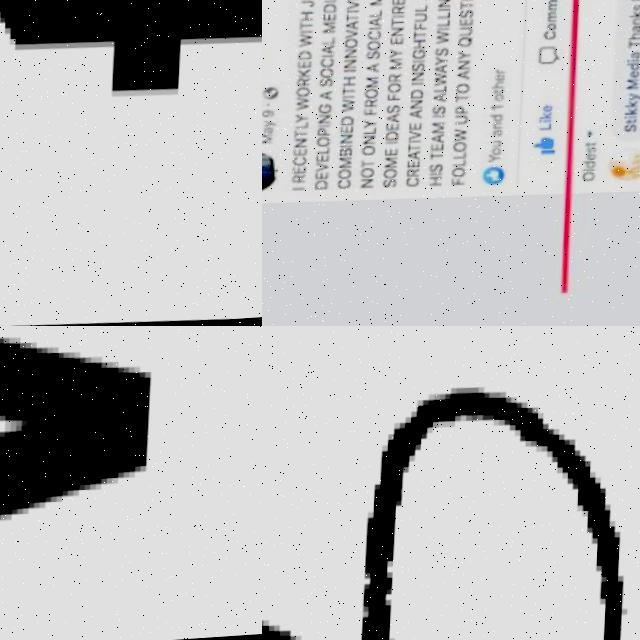5: (262, 326, 640, 640), (262, 110, 274, 117)
A: (318, 91, 331, 102), (320, 46, 334, 56), (386, 115, 399, 125), (407, 152, 420, 162), (457, 73, 470, 83), (369, 19, 381, 29), (346, 22, 359, 31), (366, 65, 379, 74), (432, 96, 445, 105), (410, 111, 421, 121), (431, 136, 442, 146), (435, 66, 446, 76), (630, 31, 640, 38), (263, 128, 273, 134), (492, 134, 502, 140), (630, 57, 639, 63)
B: (338, 148, 351, 158)
C: (291, 156, 307, 167), (320, 59, 333, 70), (336, 179, 349, 190), (406, 178, 419, 189), (368, 32, 381, 42), (543, 34, 556, 44)
D: (385, 132, 398, 143), (298, 51, 311, 61), (322, 5, 335, 15), (341, 117, 354, 127), (314, 181, 326, 191), (411, 91, 422, 101), (626, 69, 639, 76), (491, 118, 503, 125), (582, 167, 595, 173)
E: (384, 123, 401, 134), (388, 37, 405, 48), (384, 148, 400, 159), (458, 20, 471, 30), (292, 149, 308, 157), (429, 146, 445, 154), (408, 124, 422, 133), (314, 173, 328, 181), (316, 155, 328, 163), (390, 0, 406, 6), (322, 15, 335, 22), (407, 163, 420, 170), (340, 128, 354, 134), (293, 167, 306, 173), (297, 62, 310, 68), (494, 77, 505, 84), (543, 109, 553, 116), (629, 77, 639, 84), (586, 158, 596, 165), (548, 0, 557, 3)
F: (451, 179, 464, 189), (364, 110, 377, 117), (387, 96, 400, 103), (413, 26, 426, 32)
G: (316, 104, 332, 116), (412, 52, 425, 61)
H: (412, 41, 426, 52), (300, 10, 313, 21), (343, 77, 356, 87), (429, 179, 442, 189), (491, 85, 504, 92), (628, 38, 640, 45)
I: (291, 186, 304, 191), (368, 28, 381, 33), (385, 143, 398, 148), (436, 28, 449, 33), (437, 10, 450, 15), (623, 119, 636, 124), (299, 30, 311, 35), (318, 124, 330, 129), (320, 54, 332, 59), (340, 145, 352, 150), (392, 16, 404, 21), (411, 83, 423, 88), (539, 123, 551, 128), (627, 63, 639, 68), (409, 141, 420, 146), (430, 174, 441, 179), (433, 116, 444, 121), (323, 0, 335, 4), (344, 70, 356, 74), (346, 11, 358, 15), (413, 61, 424, 65), (343, 97, 355, 99), (460, 2, 473, 3)
J: (301, 1, 314, 8)
K: (297, 69, 310, 79), (539, 117, 552, 124), (624, 113, 637, 120), (625, 106, 637, 113), (628, 16, 640, 23)
L: (316, 147, 328, 155), (295, 122, 308, 129), (363, 129, 376, 136), (433, 87, 446, 94), (436, 22, 449, 29), (452, 163, 465, 170), (453, 154, 466, 161), (321, 39, 333, 46), (539, 128, 551, 135), (370, 12, 381, 19), (415, 7, 426, 13), (438, 15, 449, 21), (582, 174, 593, 176)
M: (431, 124, 445, 136), (321, 23, 334, 35), (338, 157, 351, 169), (385, 158, 398, 170), (365, 78, 378, 90), (625, 83, 637, 95), (390, 60, 402, 71), (368, 0, 382, 8), (547, 16, 557, 27), (262, 133, 272, 143), (548, 4, 557, 15)
N: (292, 137, 308, 149), (341, 135, 353, 146), (344, 60, 357, 70), (391, 29, 404, 39), (318, 115, 330, 125), (361, 180, 373, 190), (410, 102, 423, 111), (411, 74, 422, 84), (437, 0, 448, 10), (458, 63, 469, 73), (345, 50, 357, 59), (363, 137, 375, 146), (493, 125, 502, 132), (631, 23, 640, 30)
O: (382, 169, 399, 181), (361, 146, 377, 158), (454, 86, 470, 98), (317, 137, 330, 148), (319, 68, 332, 79), (337, 169, 350, 180), (343, 40, 356, 51), (367, 42, 380, 53), (388, 85, 401, 96), (453, 144, 466, 155), (361, 169, 374, 179), (365, 90, 378, 100), (582, 176, 595, 186), (453, 169, 464, 180), (296, 88, 309, 97), (494, 97, 504, 104), (547, 28, 556, 35), (492, 152, 501, 158)
P: (455, 107, 468, 117), (316, 129, 330, 137), (629, 0, 640, 5)
Q: (456, 39, 473, 52)
R: (407, 169, 421, 179), (292, 175, 305, 185), (364, 100, 377, 110), (389, 75, 402, 85), (391, 8, 404, 15), (297, 79, 310, 85), (495, 72, 505, 77)
S: (433, 49, 449, 60), (387, 106, 400, 116), (411, 64, 424, 74), (429, 166, 442, 176), (366, 53, 379, 62), (383, 181, 396, 190), (459, 13, 472, 22), (319, 80, 332, 87), (623, 130, 635, 137), (432, 110, 445, 116), (586, 151, 596, 158), (632, 10, 640, 16)
T: (0, 0, 262, 126), (413, 31, 426, 42), (408, 145, 421, 155), (459, 3, 472, 13), (627, 44, 639, 54), (362, 161, 375, 170), (391, 20, 404, 29), (430, 154, 443, 163), (455, 96, 468, 105), (294, 131, 307, 138), (346, 16, 359, 23), (342, 89, 356, 95), (299, 23, 312, 29), (492, 92, 504, 97), (626, 124, 636, 129), (585, 147, 597, 151)
U: (454, 117, 468, 128), (459, 30, 472, 40), (415, 15, 426, 24), (492, 144, 502, 150)
V: (346, 2, 360, 12), (345, 31, 358, 41), (408, 132, 421, 142), (315, 164, 328, 173)
W: (0, 326, 171, 618), (295, 97, 308, 111), (299, 34, 312, 48), (433, 75, 447, 88), (342, 101, 355, 114), (435, 34, 448, 47), (454, 131, 465, 146)
Y: (390, 50, 402, 61), (295, 114, 308, 124), (457, 53, 470, 63), (364, 121, 377, 130), (435, 60, 448, 67), (264, 120, 276, 127), (489, 158, 501, 165), (628, 99, 640, 105)
